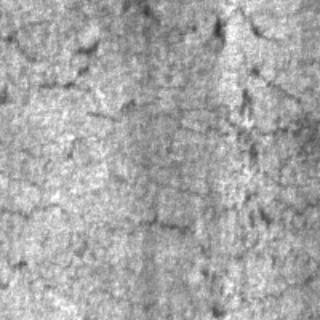crazing: (171, 28, 315, 190), (136, 188, 314, 312), (0, 16, 132, 102)
